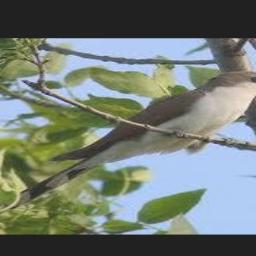Cuckoo: (1, 71, 256, 211)
